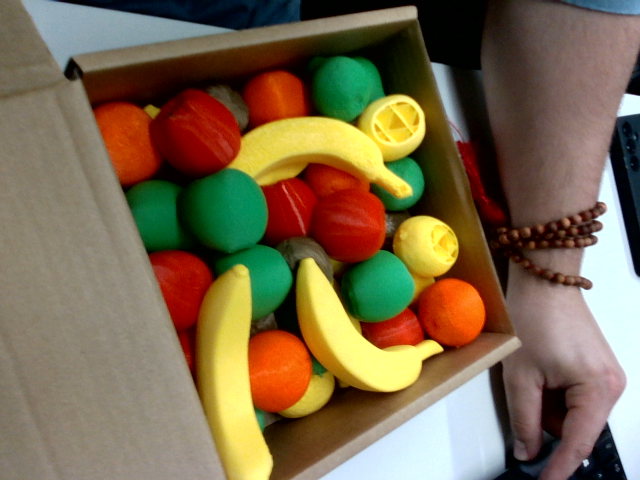banana: (259, 254, 444, 417), (227, 108, 417, 198), (0, 1, 0, 1)
green apple: (169, 159, 278, 265), (210, 229, 304, 326), (330, 243, 423, 332), (123, 173, 195, 259), (249, 330, 311, 411), (309, 57, 384, 121)
lemon: (351, 81, 437, 169), (394, 217, 458, 275)
orange: (91, 92, 168, 190), (238, 64, 311, 126), (419, 278, 483, 344)
red apple: (138, 77, 253, 192), (147, 237, 226, 333), (309, 189, 384, 263), (262, 176, 317, 246), (359, 306, 424, 358)
walnut: (273, 225, 341, 296)
